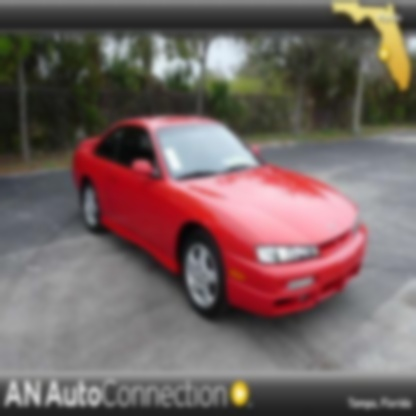Vehicle: (71, 115, 367, 319)
